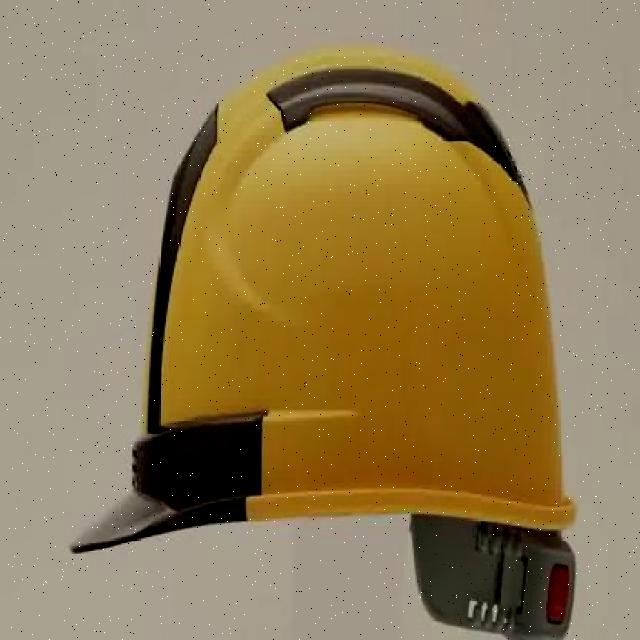Helmet: (66, 26, 580, 640)
